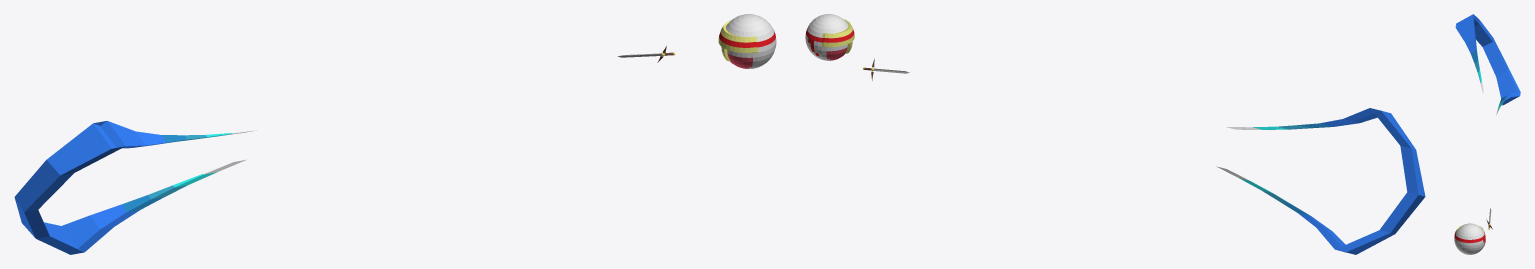
Rendered from MONSTER-01-red.fbx.
The picture shows the model from 3 angles, left to right: view 1: azimuth 30°, elevation 25°; view 2: azimuth 150°, elevation 25°; view 3: azimuth 270°, elevation 25°; orthographic projection. The views are drawn at different scales.
Visible parts, largest first — view 1: Sphere.002, Sphere; view 2: Sphere.002, Sphere; view 3: Sphere.002, Sphere, Cube.
Boxes of the visible parts, bbox=[...] form: Sphere.002: bbox=[14, 121, 256, 254]; Sphere: bbox=[718, 14, 776, 69]; Sphere.002: bbox=[1216, 108, 1425, 254]; Sphere: bbox=[805, 14, 854, 60]; Sphere.002: bbox=[1455, 14, 1520, 115]; Sphere: bbox=[1454, 223, 1485, 254]; Cube: bbox=[1486, 208, 1492, 229].
Bounding box in the file's own units: 65445 × 12884 × 8922.
